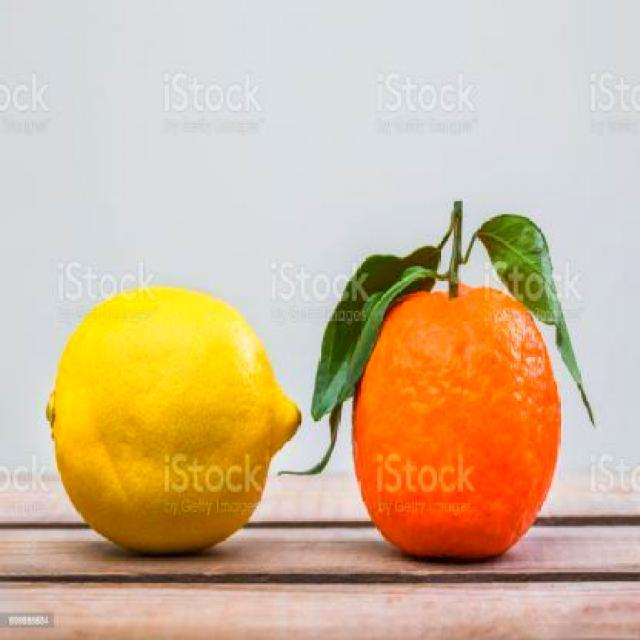Jeruk Sudah Matang: (353, 278, 561, 564)
